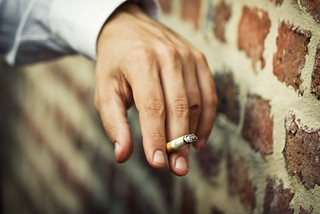cigarette: (165, 132, 198, 156)
